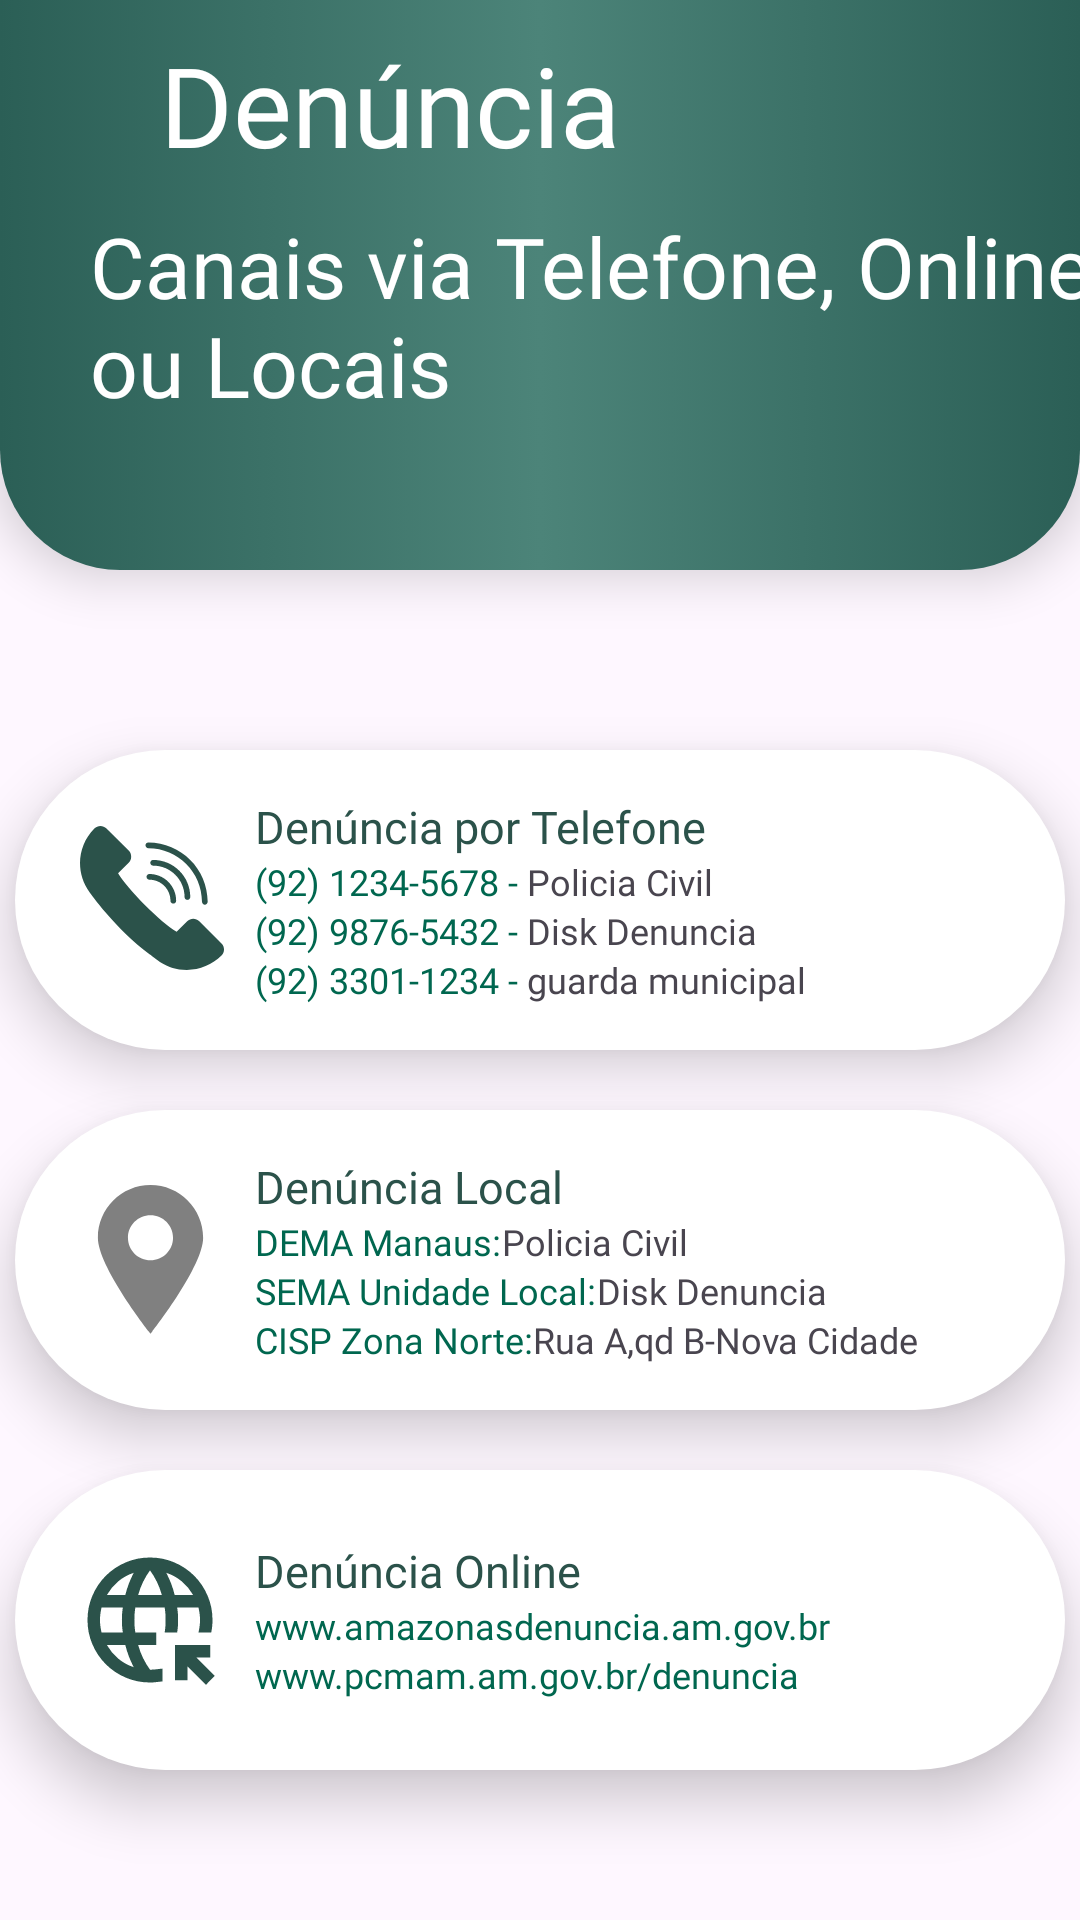

Locate icon controls on the screen. Image size 1080x1920, boxes as (x1, y1, x2, y2).
denuncia online: (87, 1557, 215, 1685)
disk denuncia: (80, 826, 224, 970)
loc: (98, 1185, 203, 1334)
